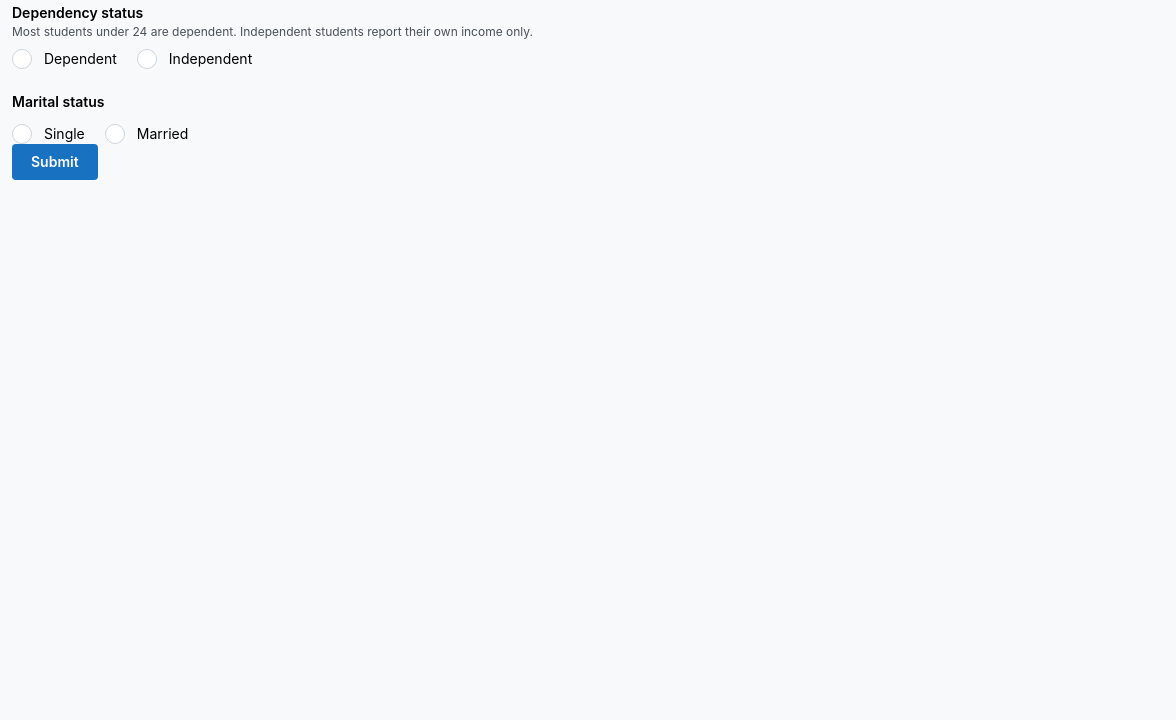
Test case: StatusStep › validates the spouse fields once they apply
What coordinates should you click on to do the following:
click the radio button labelled "Married"
I would click on:
 (115, 134)
Its box is left=105, top=124, right=125, bottom=144.
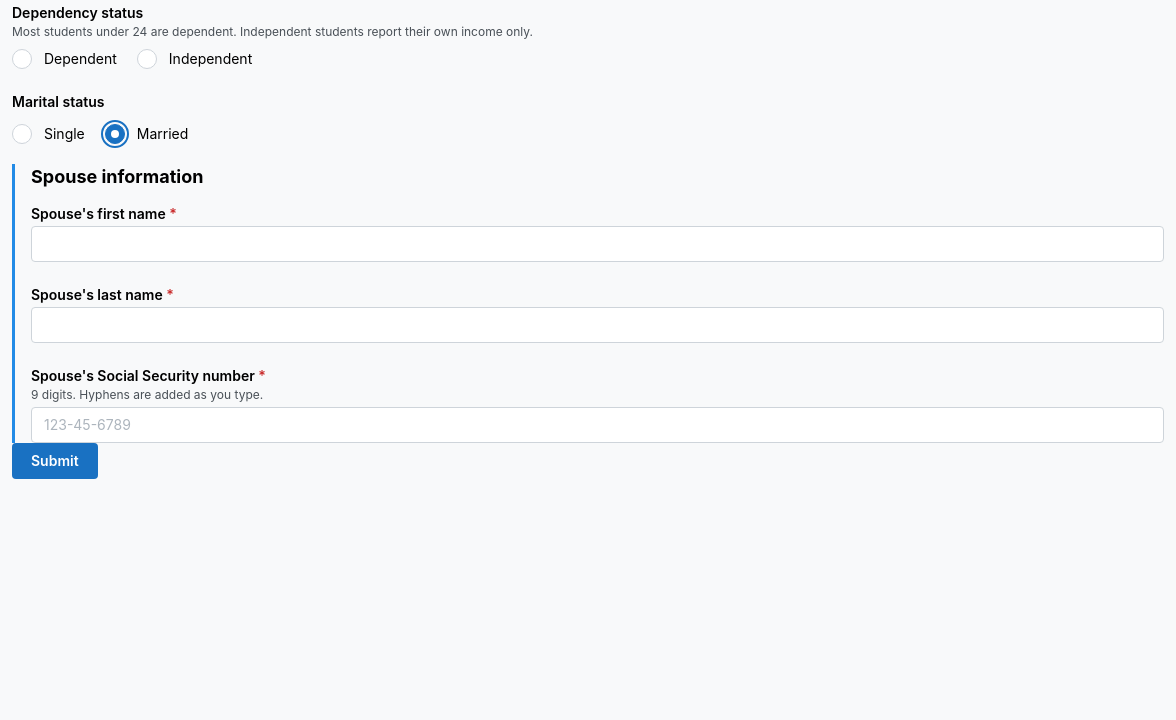
What coordinates should you click on to do the following:
click the button "Submit"
I would click on:
 (55, 461)
Its box is left=12, top=443, right=98, bottom=479.
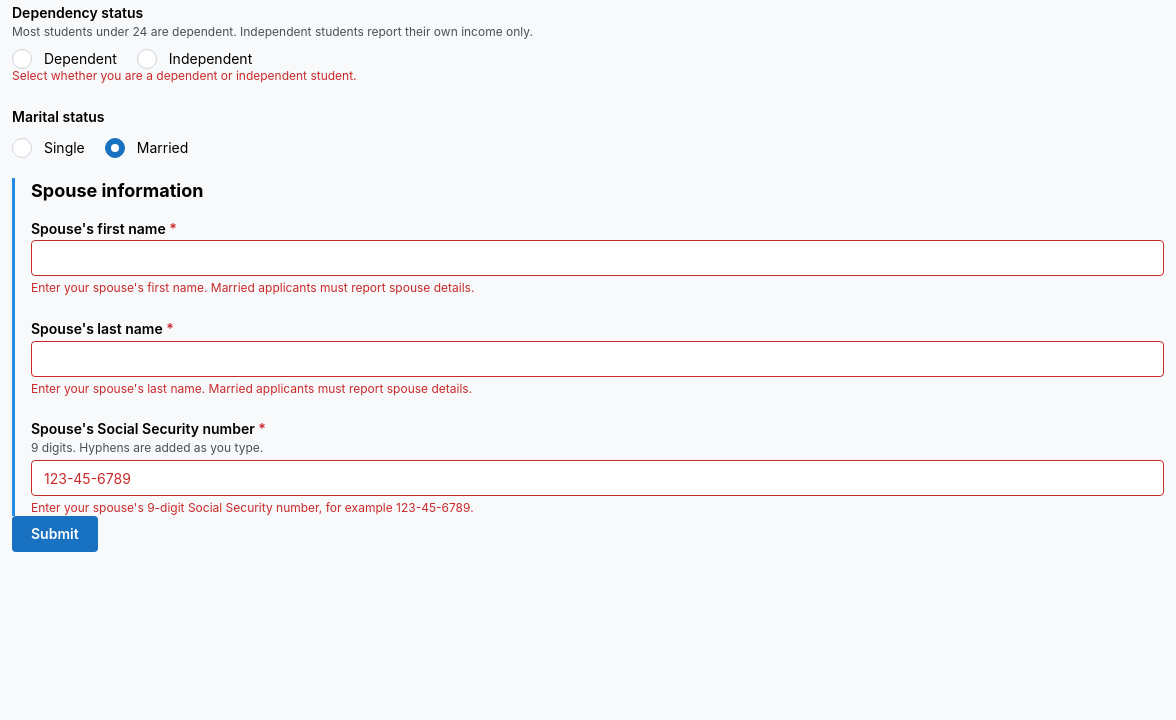
Check: the text "Enter your spouse's first name" is shown, box left=31, top=280, right=474, bottom=295
